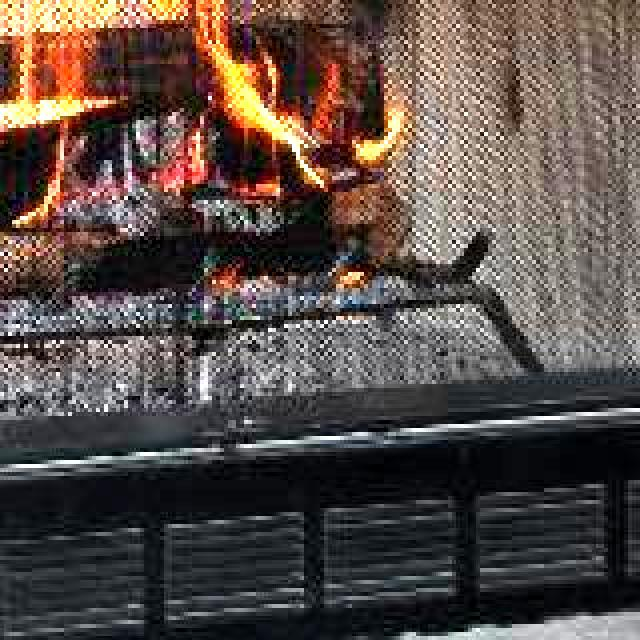fire: (0, 0, 408, 288)
